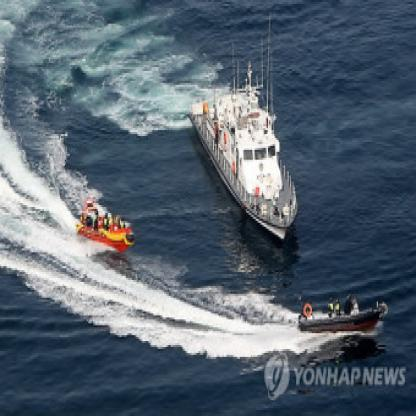fish-b: (297, 292, 394, 347)
